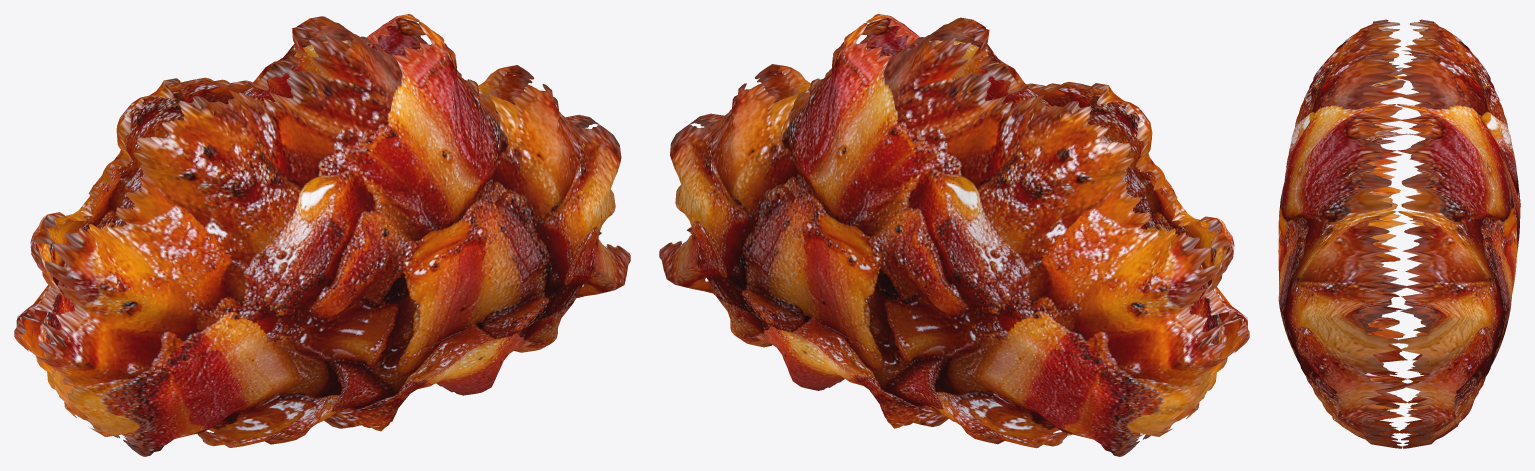
The model's file is tocineta-whisky.glb.
3 renders of one model, left to right at view 1: azimuth 30°, elevation 25°; view 2: azimuth 150°, elevation 25°; view 3: azimuth 270°, elevation 25°, orthographic. The views are drawn at different scales.
Visible parts, largest first — view 1: tocineta-whisky; view 2: tocineta-whisky; view 3: tocineta-whisky.
Part boxes in pixels (box(x1,y1,x2,y2)): tocineta-whisky: box(14, 14, 630, 456); tocineta-whisky: box(659, 14, 1249, 456); tocineta-whisky: box(1278, 19, 1520, 448).
Size of the model in its own units: 1.98 by 1.33 by 0.8169.
1 material, 1 textured.
